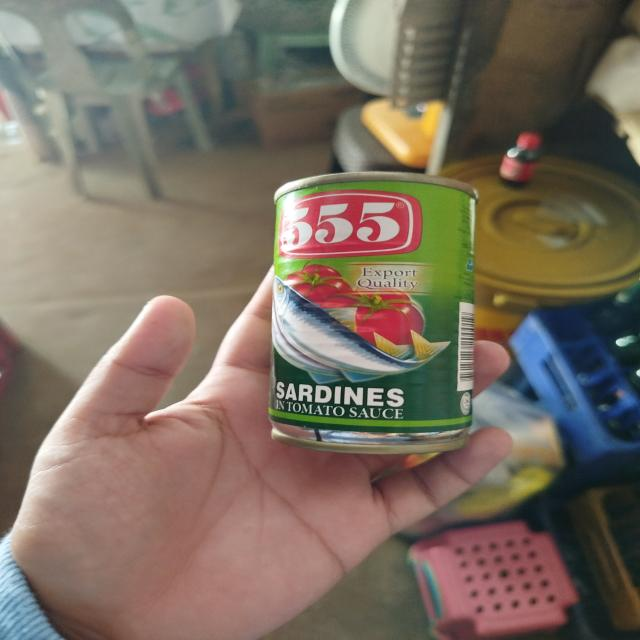metal: (260, 159, 491, 463)
plastic: (499, 120, 552, 188)
